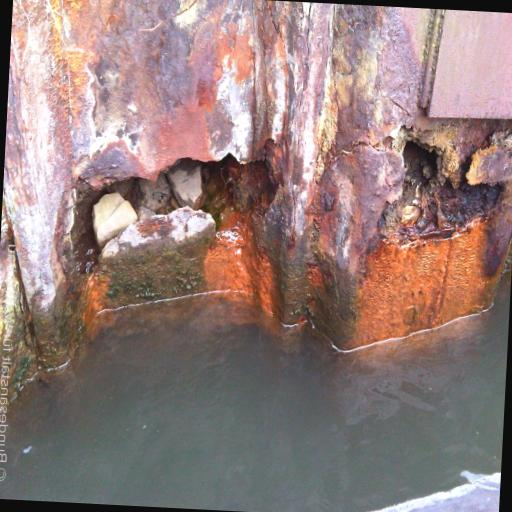segmentation: (0, 0, 512, 403)
